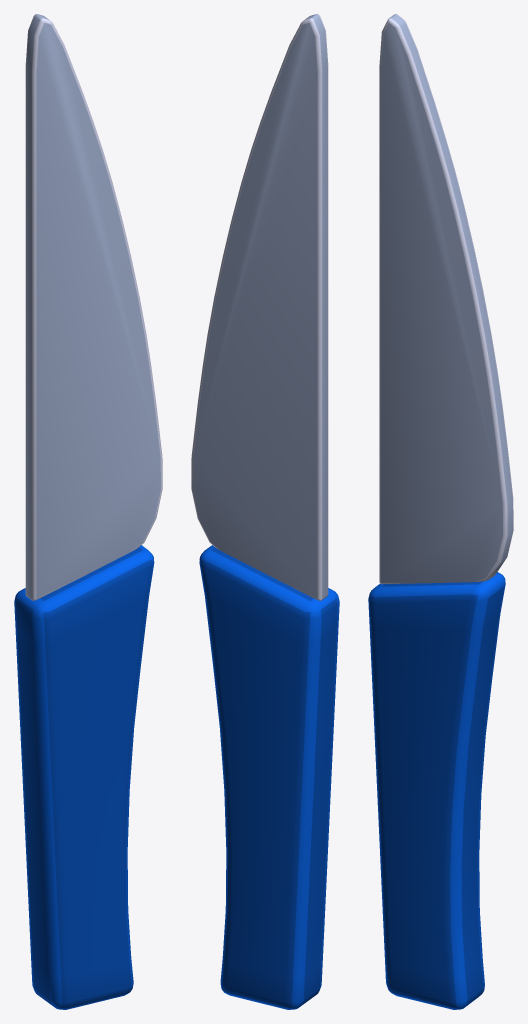
Rendered from Knife2.fbx.
3 views of the same model, side by side, from view 1: azimuth 30°, elevation 25°; view 2: azimuth 150°, elevation 25°; view 3: azimuth 330°, elevation 25° (orthographic). The views are drawn at different scales.
Parts seen in each view (by area): view 1: Knife, Knife.001; view 2: Knife, Knife.001; view 3: Knife, Knife.001.
Boxes of the visible parts, <box> form: Knife: <box>25,14,162,600</box>; Knife.001: <box>14,545,154,1009</box>; Knife: <box>191,14,328,600</box>; Knife.001: <box>199,545,339,1009</box>; Knife: <box>379,14,513,584</box>; Knife.001: <box>368,572,505,1009</box>.
Bounding box in the file's own units: 44.56 × 312 × 16.99.
